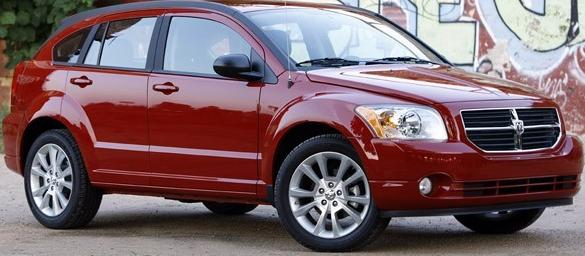front_view: (351, 76, 580, 209)
headlight: (358, 90, 460, 157)
side_glass: (78, 11, 280, 87)
